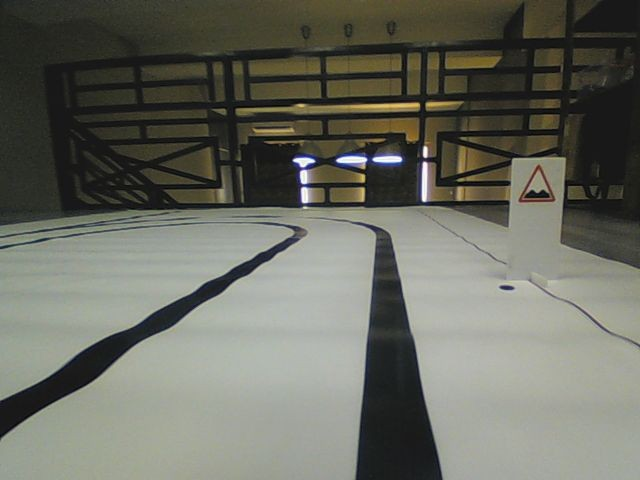Nerov: (518, 162, 557, 204)
